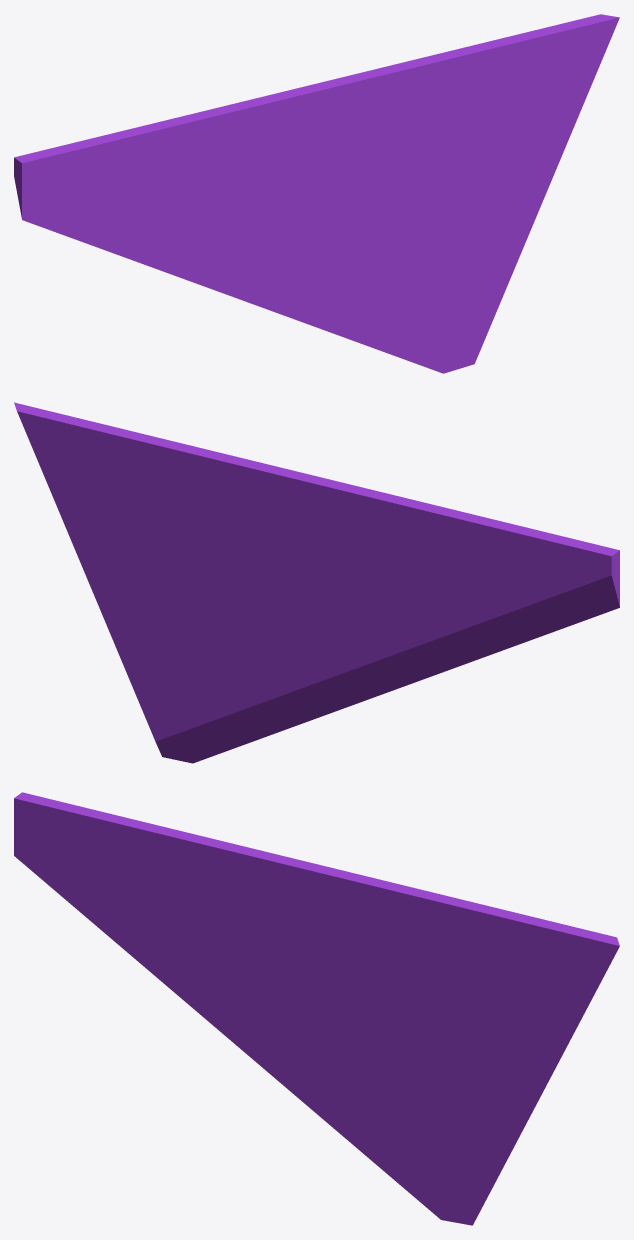
File: Glass_99_3_chunks.fbx
The picture shows the model from 3 angles, top to bottom: view 1: azimuth 30°, elevation 25°; view 2: azimuth 150°, elevation 25°; view 3: azimuth 330°, elevation 25°; orthographic projection.
Visible parts, largest first — view 1: Glass_99_3_10, Glass_99_3_2, Glass_99_3_1, Glass_99_3_12, Glass_99_3_5, Glass_99_3_6, Glass_99_3_7, Glass_99_3_4, Glass_99_3_11, Glass_99_3_9, Glass_99_3_0; view 2: Glass_99_3_2, Glass_99_3_10, Glass_99_3_9, Glass_99_3_1, Glass_99_3_5, Glass_99_3_11, Glass_99_3_6, Glass_99_3_12, Glass_99_3_4, Glass_99_3_7, Glass_99_3_8, Glass_99_3_3; view 3: Glass_99_3_10, Glass_99_3_2, Glass_99_3_1, Glass_99_3_12, Glass_99_3_5, Glass_99_3_6, Glass_99_3_7, Glass_99_3_4, Glass_99_3_11, Glass_99_3_9, Glass_99_3_0.
Part boxes in pixels (left/top/right/bottom): Glass_99_3_10: left=427, top=14, right=619, bottom=202; Glass_99_3_2: left=14, top=126, right=198, bottom=273; Glass_99_3_1: left=169, top=170, right=312, bottom=309; Glass_99_3_12: left=248, top=65, right=443, bottom=157; Glass_99_3_5: left=267, top=210, right=414, bottom=345; Glass_99_3_6: left=368, top=264, right=515, bottom=373; Glass_99_3_7: left=389, top=184, right=549, bottom=269; Glass_99_3_4: left=142, top=100, right=292, bottom=202; Glass_99_3_11: left=281, top=146, right=431, bottom=210; Glass_99_3_9: left=373, top=22, right=568, bottom=131; Glass_99_3_0: left=312, top=208, right=384, bottom=233; Glass_99_3_2: left=434, top=520, right=619, bottom=661; Glass_99_3_10: left=14, top=402, right=196, bottom=596; Glass_99_3_9: left=49, top=418, right=249, bottom=548; Glass_99_3_1: left=314, top=564, right=470, bottom=698; Glass_99_3_5: left=227, top=608, right=371, bottom=735; Glass_99_3_11: left=191, top=524, right=361, bottom=615; Glass_99_3_6: left=119, top=654, right=268, bottom=763; Glass_99_3_12: left=214, top=451, right=378, bottom=534; Glass_99_3_4: left=344, top=491, right=494, bottom=575; Glass_99_3_7: left=88, top=579, right=219, bottom=658; Glass_99_3_8: left=201, top=601, right=265, bottom=675; Glass_99_3_3: left=341, top=557, right=441, bottom=605; Glass_99_3_10: left=424, top=929, right=619, bottom=1079; Glass_99_3_2: left=14, top=792, right=193, bottom=982; Glass_99_3_1: left=163, top=926, right=308, bottom=1067; Glass_99_3_12: left=255, top=850, right=440, bottom=992; Glass_99_3_5: left=262, top=1013, right=411, bottom=1154; Glass_99_3_6: left=365, top=1100, right=514, bottom=1225; Glass_99_3_7: left=386, top=1027, right=548, bottom=1145; Glass_99_3_4: left=139, top=824, right=288, bottom=938; Glass_99_3_11: left=276, top=909, right=429, bottom=1040; Glass_99_3_9: left=386, top=881, right=584, bottom=975; Glass_99_3_0: left=307, top=988, right=381, bottom=1025.
Bounding box in the file's own units: 1154 × 578 × 27.2.
